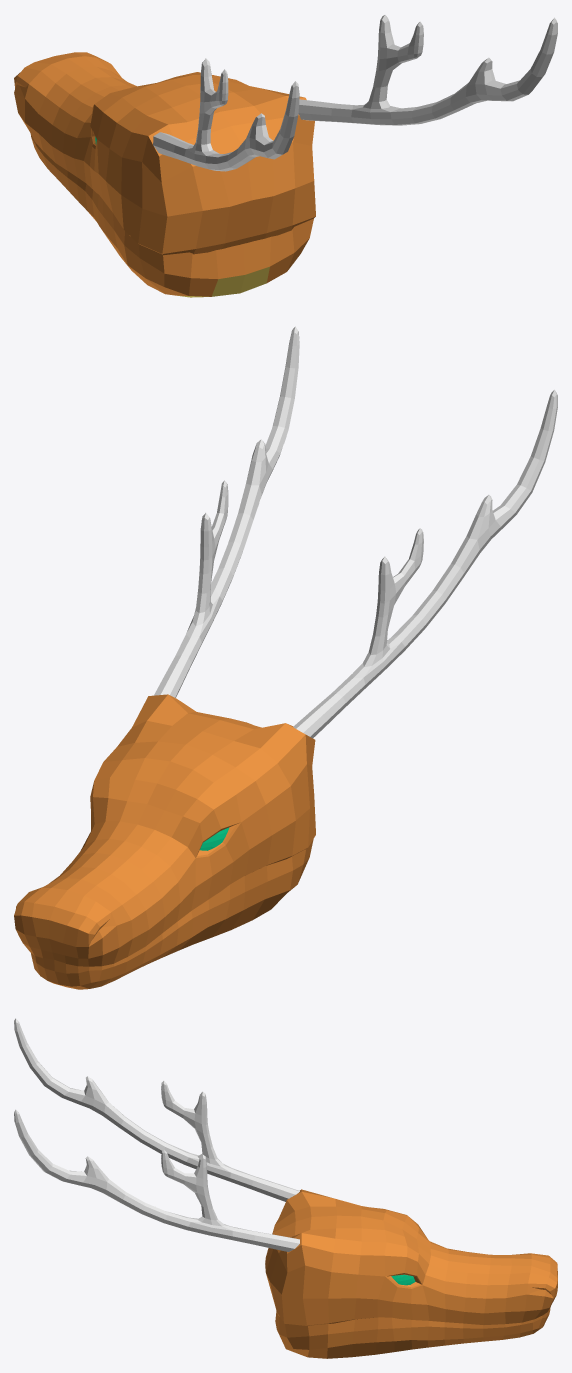
The model's file is DragonHead.fbx.
The picture shows the model from 3 angles, top to bottom: view 1: azimuth 30°, elevation 25°; view 2: azimuth 150°, elevation 25°; view 3: azimuth 270°, elevation 25°; orthographic projection. The views are drawn at different scales.
Parts seen in each view (by area): view 1: TopHead, Antlers, BottomJaw; view 2: TopHead, Antlers, BottomJaw; view 3: TopHead, Antlers, BottomJaw.
Boxes of the visible parts, x1,y1,x2,y2 form: TopHead: [14, 52, 315, 255]; Antlers: [153, 15, 557, 171]; BottomJaw: [30, 134, 313, 297]; TopHead: [14, 694, 315, 966]; Antlers: [154, 326, 557, 738]; BottomJaw: [31, 839, 313, 989]; TopHead: [265, 1189, 557, 1325]; Antlers: [14, 1018, 299, 1251]; BottomJaw: [275, 1308, 550, 1358].
Size of the model in its own units: 209 by 293 by 510.
